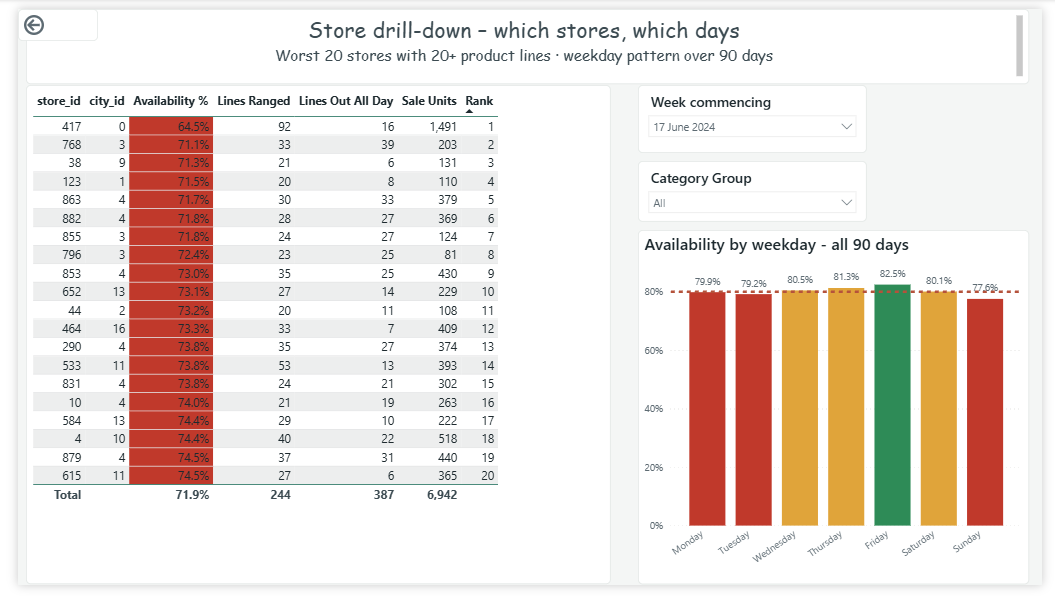

What the dashboard file says about the page in this screenshot:
{"tool":"powerbi","page":{"name":"Page 3","canvas":[1280,720],"ordinal":2},"visuals":[{"type":"textbox","box":[10,0,1254.3,94.4],"z":0},{"type":"slicer","fields":{"Values":["dim_date.week_start"]},"box":[774.8,94.7,286.4,84.6],"z":1000},{"type":"slicer","fields":{"Values":["dim_product.management_group_id"]},"box":[774.8,189.5,286.4,75.6],"z":2000},{"type":"tableEx","fields":{"Values":["dim_store.store_id","dim_store.city_id","_Measures.Availability %","_Measures.Lines Ranged","_Measures.Lines Out All Day","_Measures.Sale Units","_Measures.Store Rank (20+ lines)"]},"box":[10,95,731.2,623.8],"z":3000},{"type":"clusteredColumnChart","title":"Availability by weekday - all 90 days","fields":{"Category":["dim_date.day_name"],"Y":["_Measures.Availability % (all weeks)"]},"box":[775,276.2,488.8,442.5],"z":3001},{"type":"actionButton","box":[0,0,100,40],"z":3002}]}

Visuals, with their boxes in screenshot pixels (x1, y1, x2, y2), scaled from the page's 1280x720 canvas onto the 1055x596 screenshot:
textbox: 8, 0, 1042, 78
slicer - dim_date.week_start: 639, 78, 875, 148
slicer - dim_product.management_group_id: 639, 157, 875, 219
tableEx - dim_store.store_id x dim_store.city_id: 8, 79, 611, 595
"Availability by weekday - all 90 days" clusteredColumnChart: 639, 229, 1042, 595
actionButton: 0, 0, 82, 33
